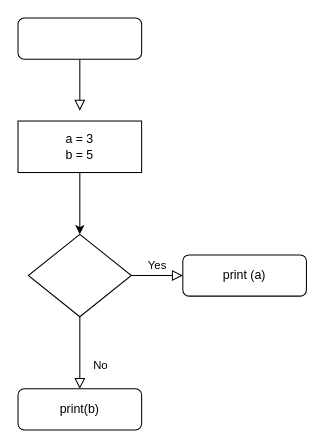
Some shapes in this 324 by 448 pixel diagram are drawn without their labels. The shapes that lost their labels are listed below. From the top down, each one's centre as x and y in pixels, then its label:
At point 79,38: "start".
At point 79,275: "a>b".
